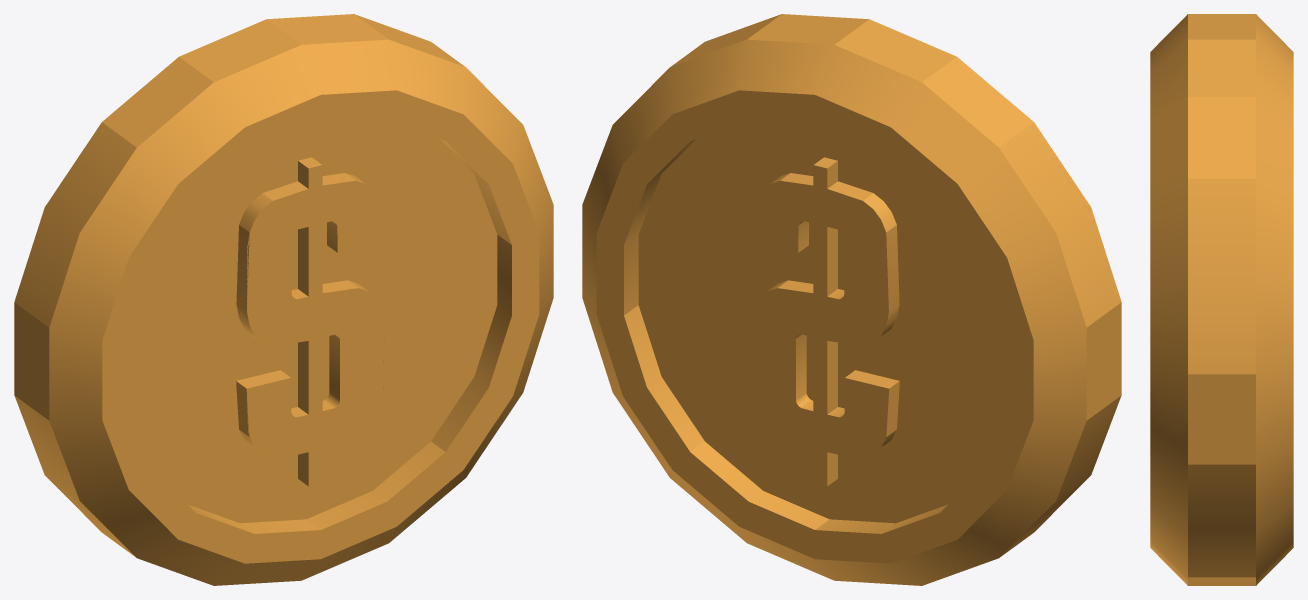
The model's file is goldcoin.glb.
3 renders of one model, left to right at view 1: azimuth 30°, elevation 25°; view 2: azimuth 150°, elevation 25°; view 3: azimuth 270°, elevation 25°, orthographic. The views are drawn at different scales.
Visible parts, largest first — view 1: Coin; view 2: Coin; view 3: Coin.
Part boxes in pixels (x1,y1,x2,y2): Coin: [14, 14, 553, 585]; Coin: [582, 14, 1121, 585]; Coin: [1150, 14, 1293, 585].
Size of the model in its own units: 0.5909 by 0.6 by 0.15.
